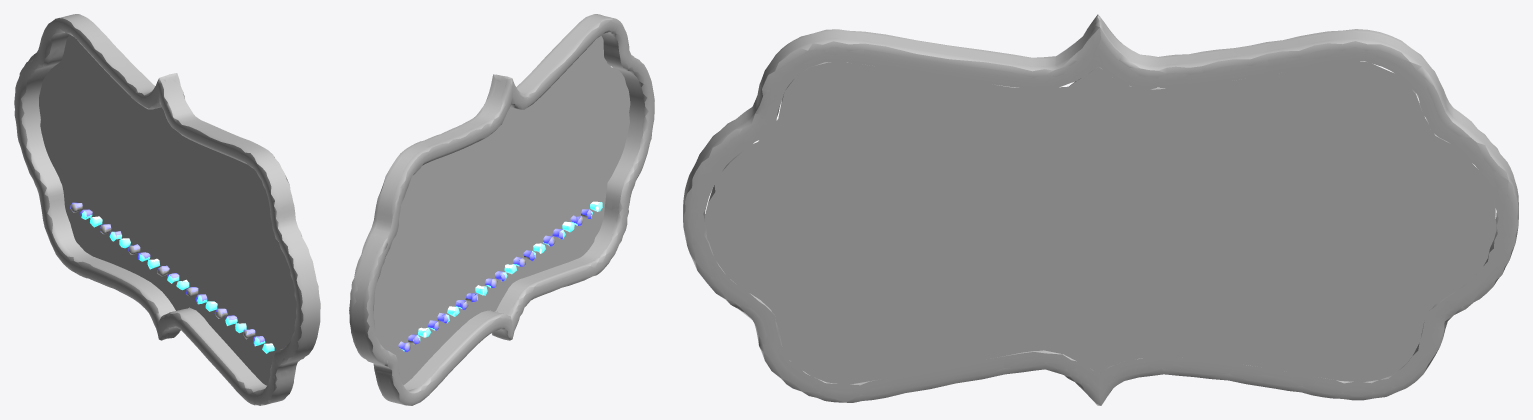
File: SM_Signboard_02e.fbx
3 views of the same model, side by side, from view 1: azimuth 30°, elevation 25°; view 2: azimuth 150°, elevation 25°; view 3: azimuth 270°, elevation 25° (orthographic). The views are drawn at different scales.
Parts seen in each view (by area): view 1: SM_Signboard_02e_LOD0; view 2: SM_Signboard_02e_LOD0; view 3: SM_Signboard_02e_LOD0.
Part boxes in pixels (bbox=[...]): SM_Signboard_02e_LOD0: bbox=[14, 14, 320, 405]; SM_Signboard_02e_LOD0: bbox=[349, 14, 654, 405]; SM_Signboard_02e_LOD0: bbox=[683, 14, 1518, 405].
Size of the model in its own units: 6.25 by 150 by 75.6.
